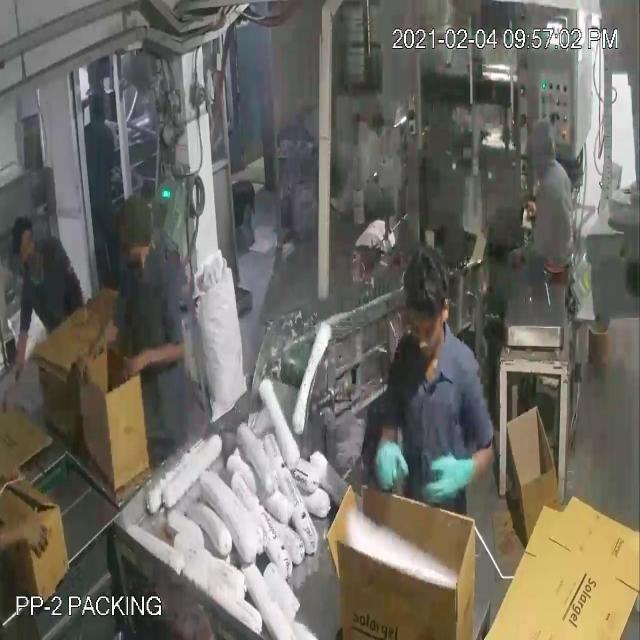No_Gloves: (21, 56, 463, 537)
